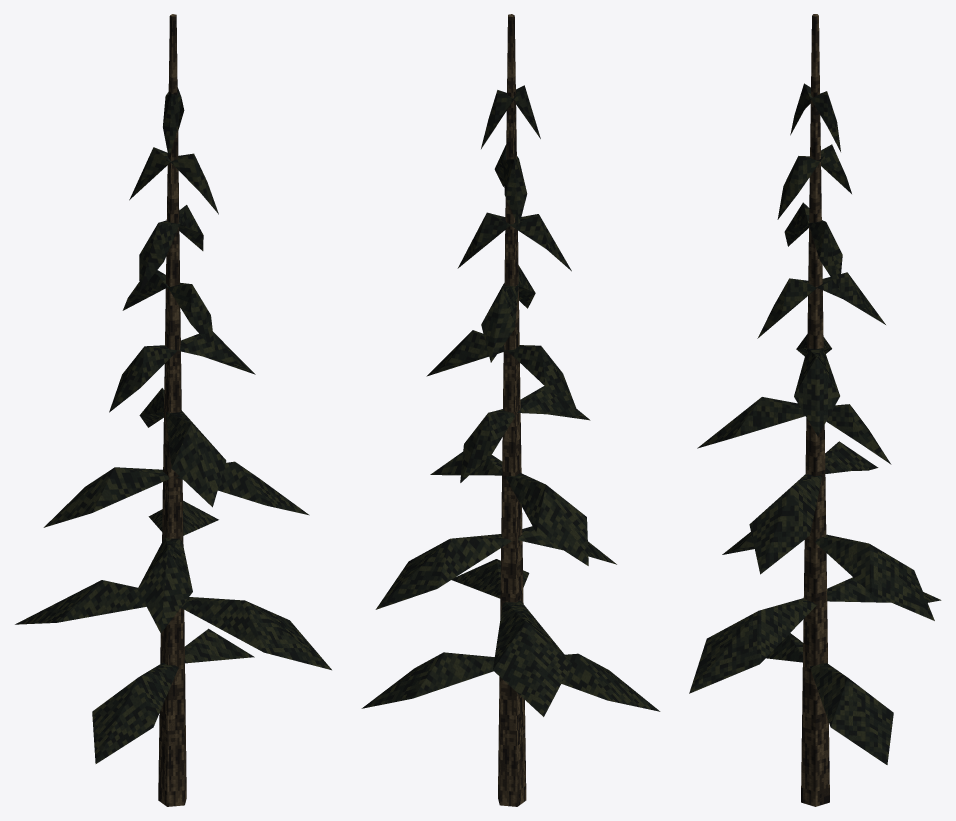
Rendered from ENV_F_Spruce_1.fbx.
The picture shows the model from 3 angles, left to right: view 1: azimuth 30°, elevation 25°; view 2: azimuth 150°, elevation 25°; view 3: azimuth 270°, elevation 25°; orthographic projection.
Visible parts, largest first — view 1: PL_ENV_F_Spruce_1; view 2: PL_ENV_F_Spruce_1; view 3: PL_ENV_F_Spruce_1.
Boxes of the visible parts, x1,y1,x2,y2 form: PL_ENV_F_Spruce_1: [15, 14, 331, 806]; PL_ENV_F_Spruce_1: [361, 14, 660, 806]; PL_ENV_F_Spruce_1: [689, 14, 941, 806].
Bounding box in the file's own units: 395 × 1300 × 379.
Materials: 2 (2 with a texture image).
